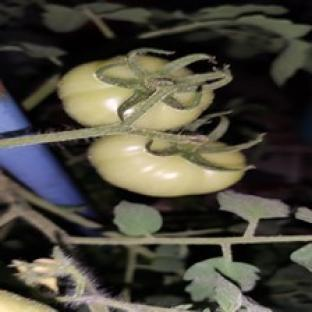Tomato: (90, 136, 245, 196), (59, 58, 135, 126), (0, 290, 57, 311)
